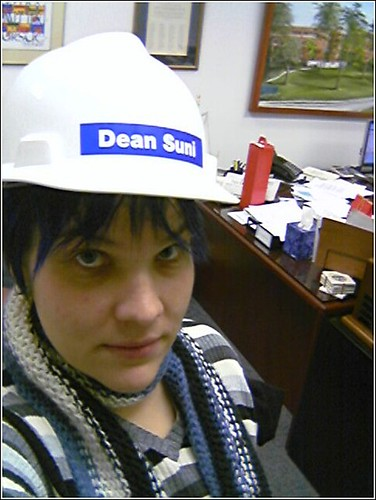person hardhat: (1, 34, 292, 500)
